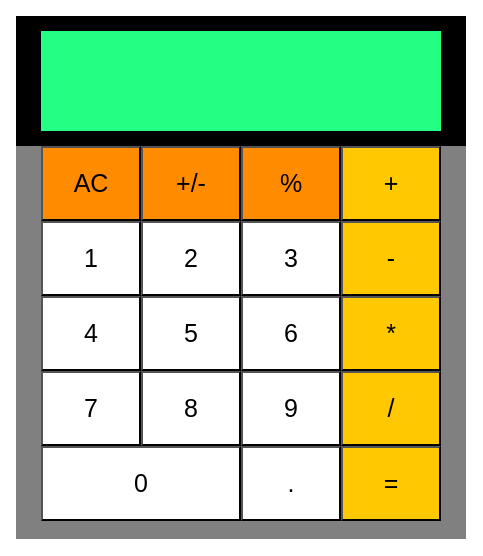
Test: Testing component Button and screen › Testing number Button
Click the button with test id "Seven" at (91, 408), box [41,371,141,446]
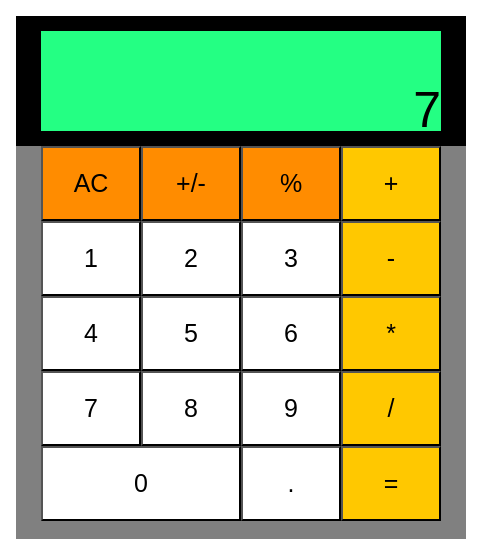
Check: the text with test id "PantallaN" reads "7", box [413,82,441,138]
